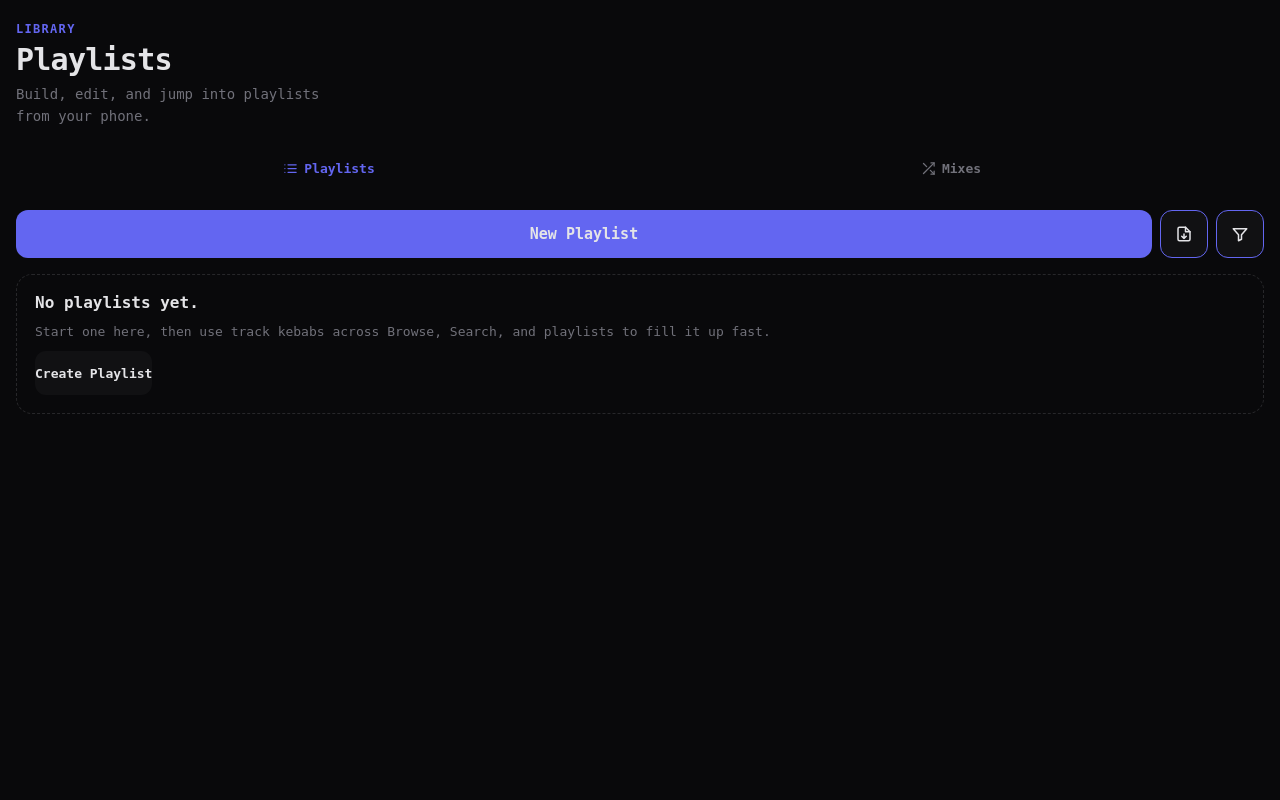
Test case: MobilePlaylistsView › renders empty root and supports both create entry points and validation failures
Expected: the text "No playlists yet." is shown, [35, 293, 199, 312]
Click the button "Create Playlist": x=94, y=373 [35, 351, 152, 395]
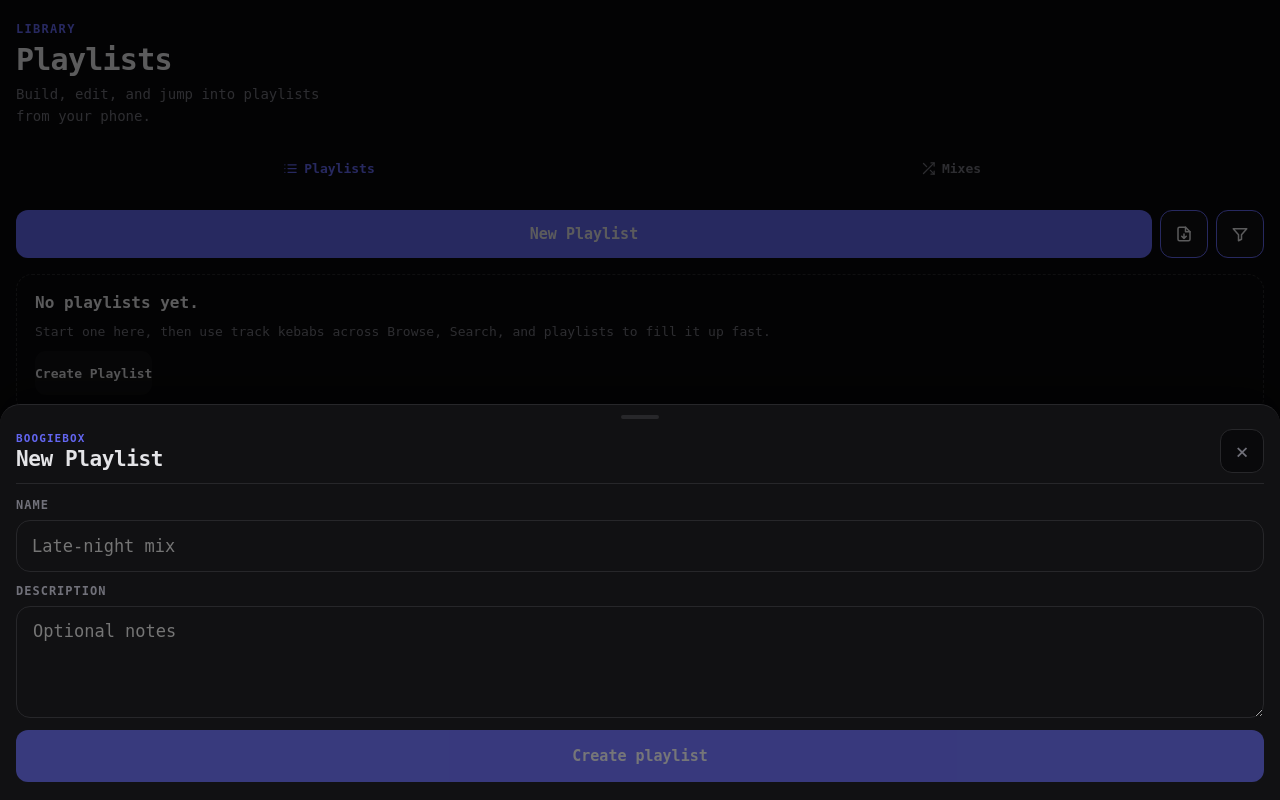
In the field with placeholder "Late-night mix": x=640, y=546 [16, 520, 1264, 572], type "Broken"
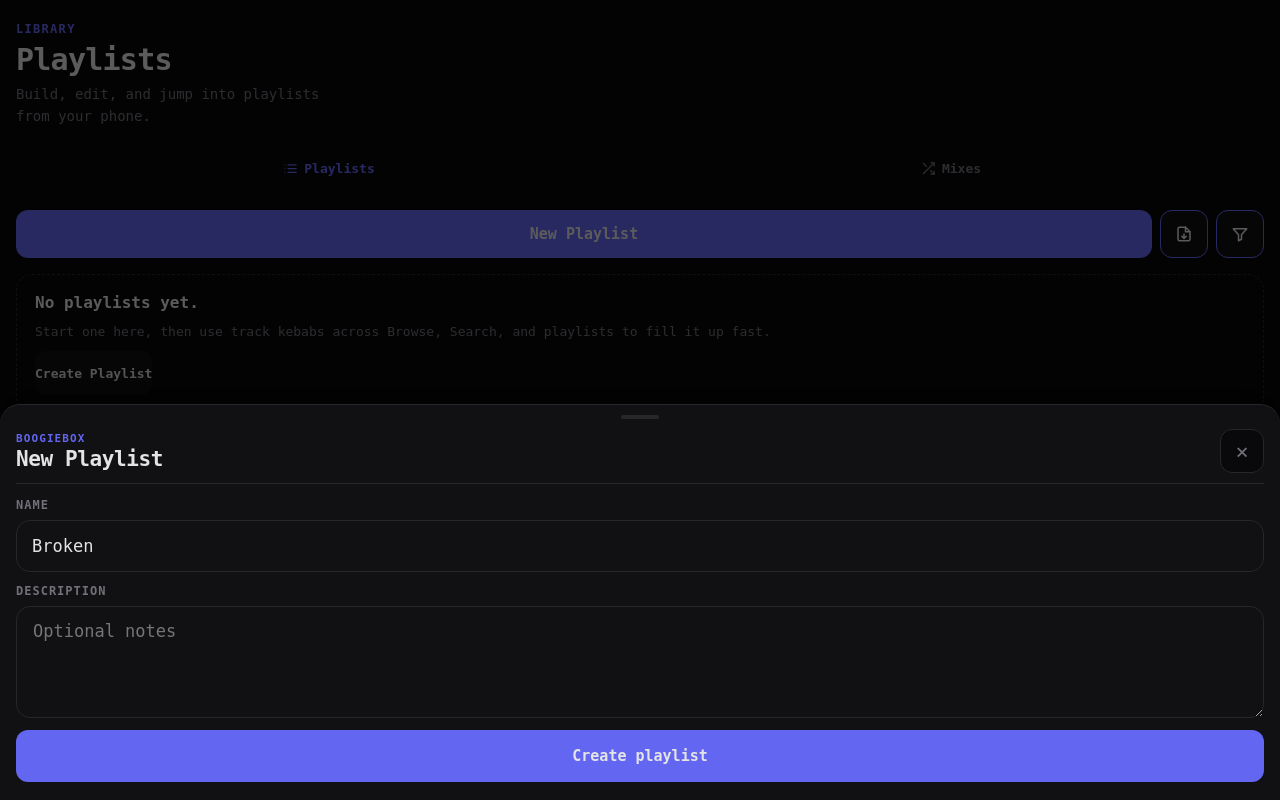
Click the button "Create playlist": x=640, y=756 [16, 730, 1264, 782]
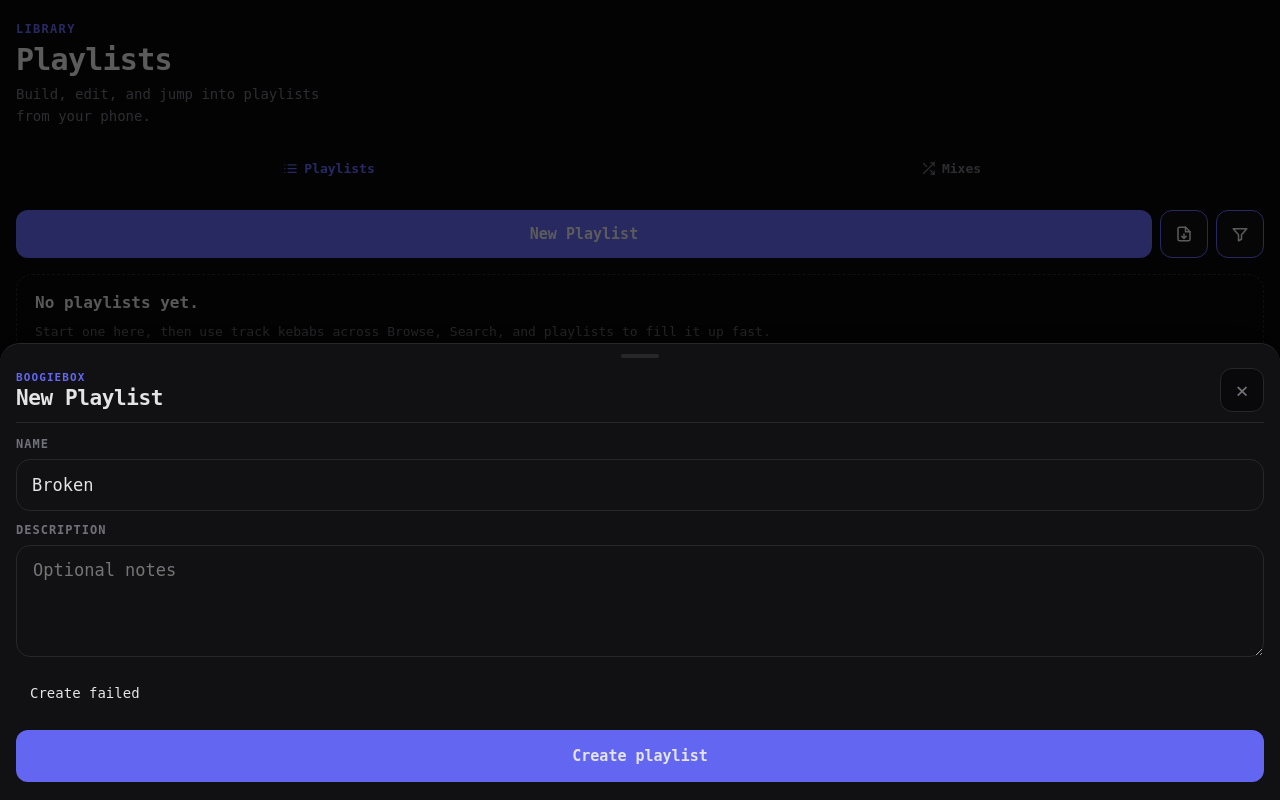
Expected: the text "Create failed" is shown, [30, 685, 140, 701]
Click the button named "Close New Playlist": x=1242, y=390 [1220, 368, 1264, 412]
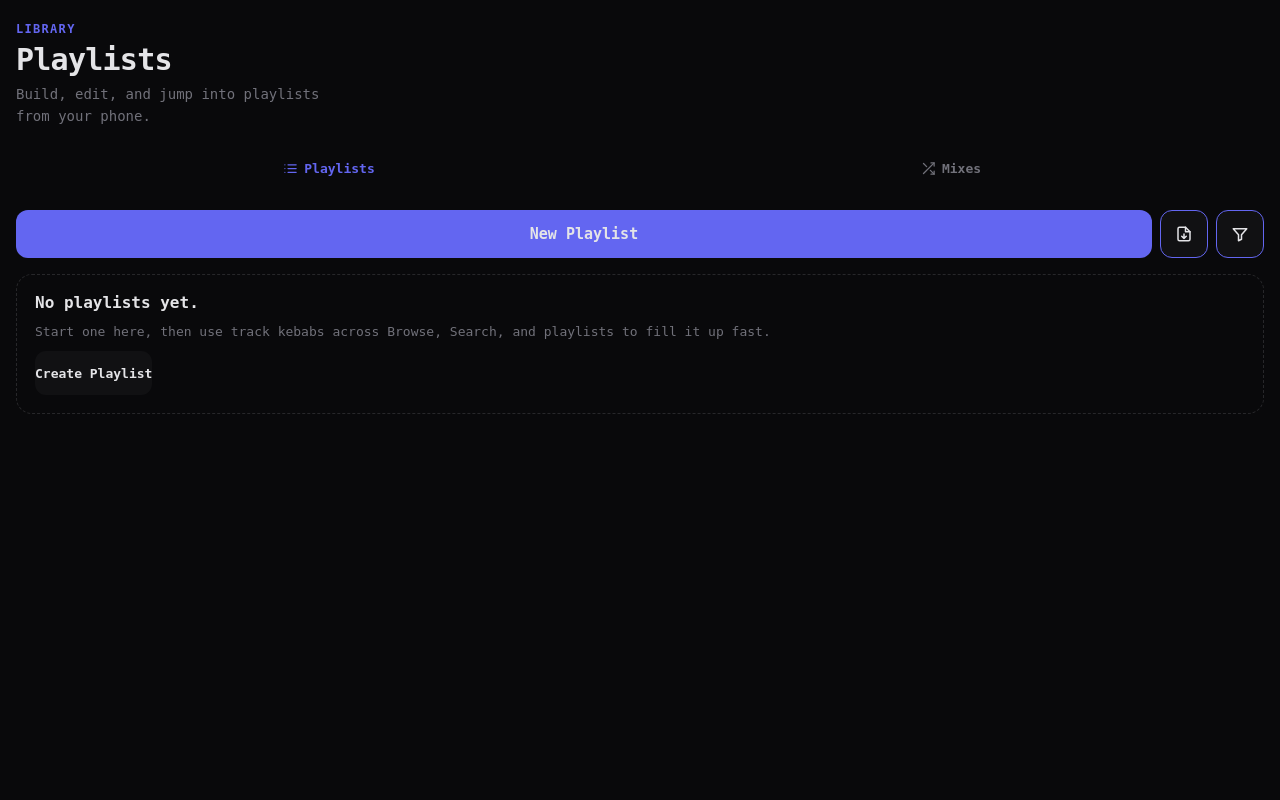
Click the button "New Playlist": x=584, y=234 [16, 210, 1152, 258]
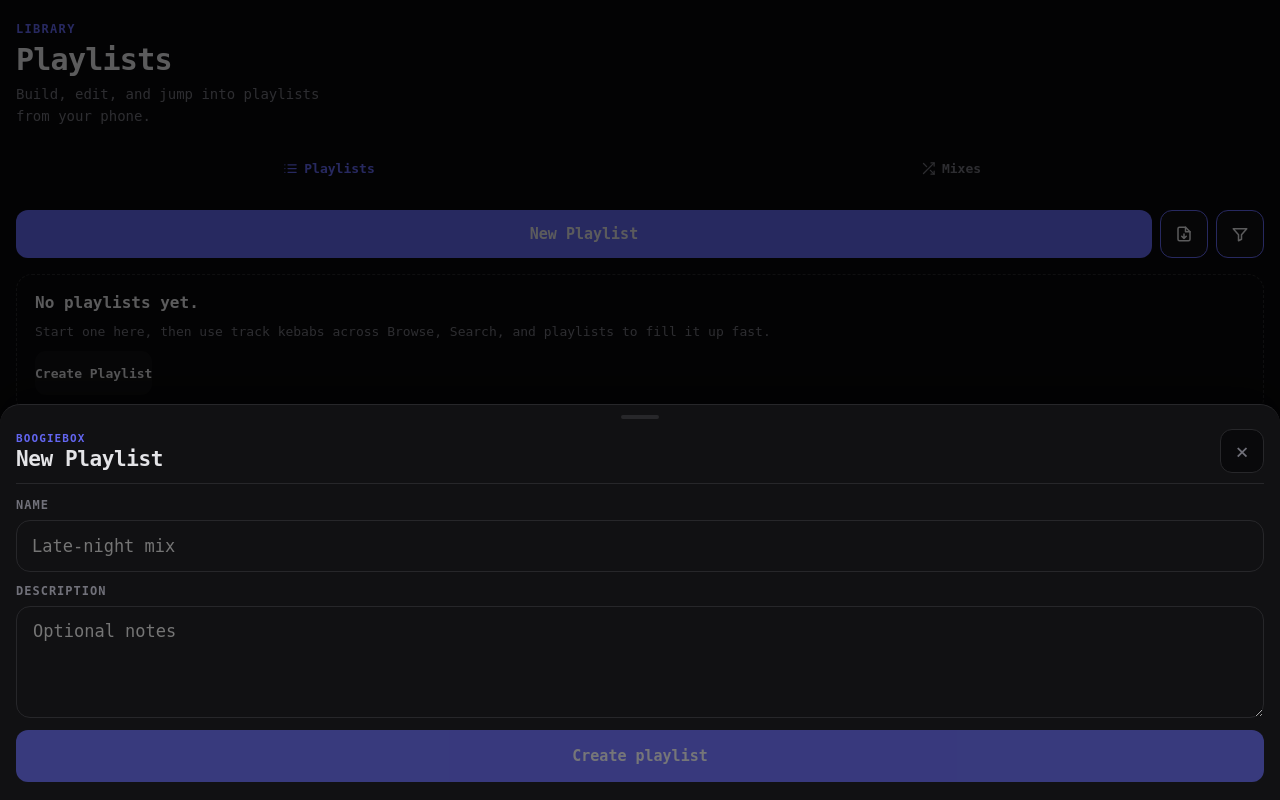
Expected: the field with placeholder "Late-night mix" is shown, [16, 520, 1264, 572]
